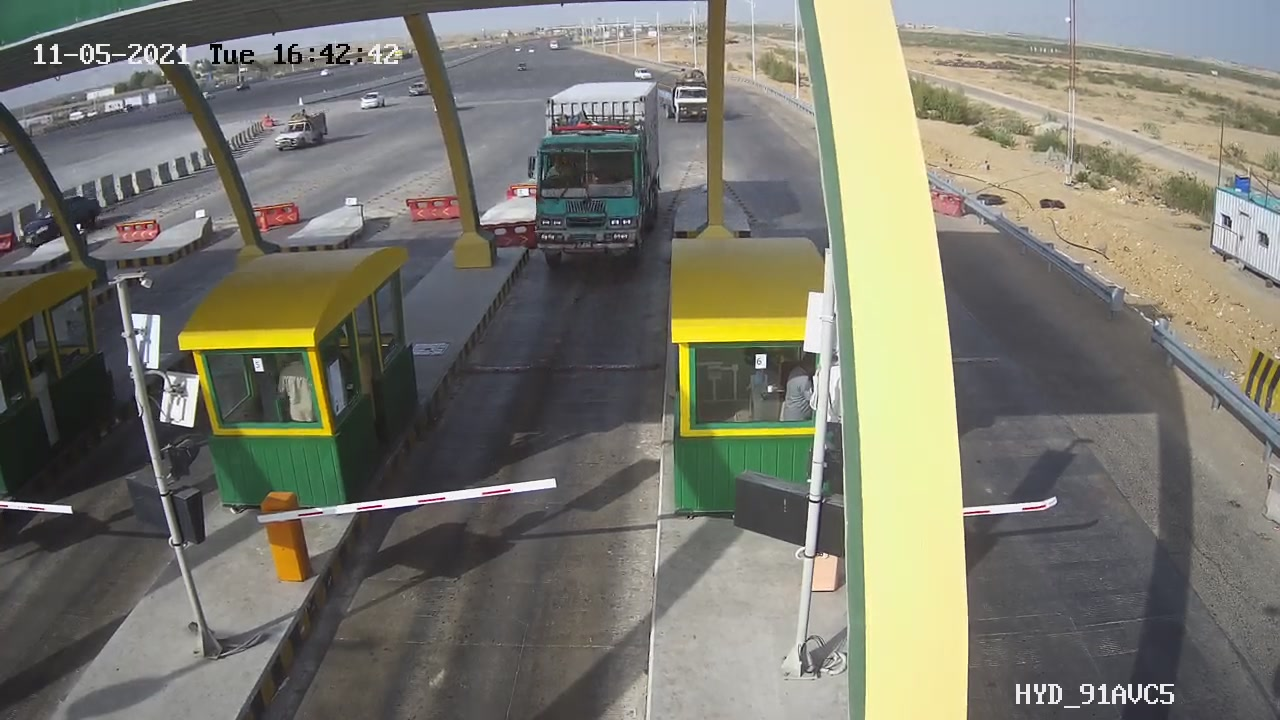F6: (500, 69, 692, 285)
